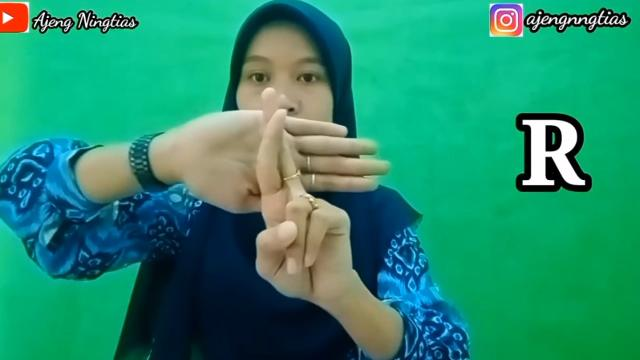R: (240, 83, 358, 305)
